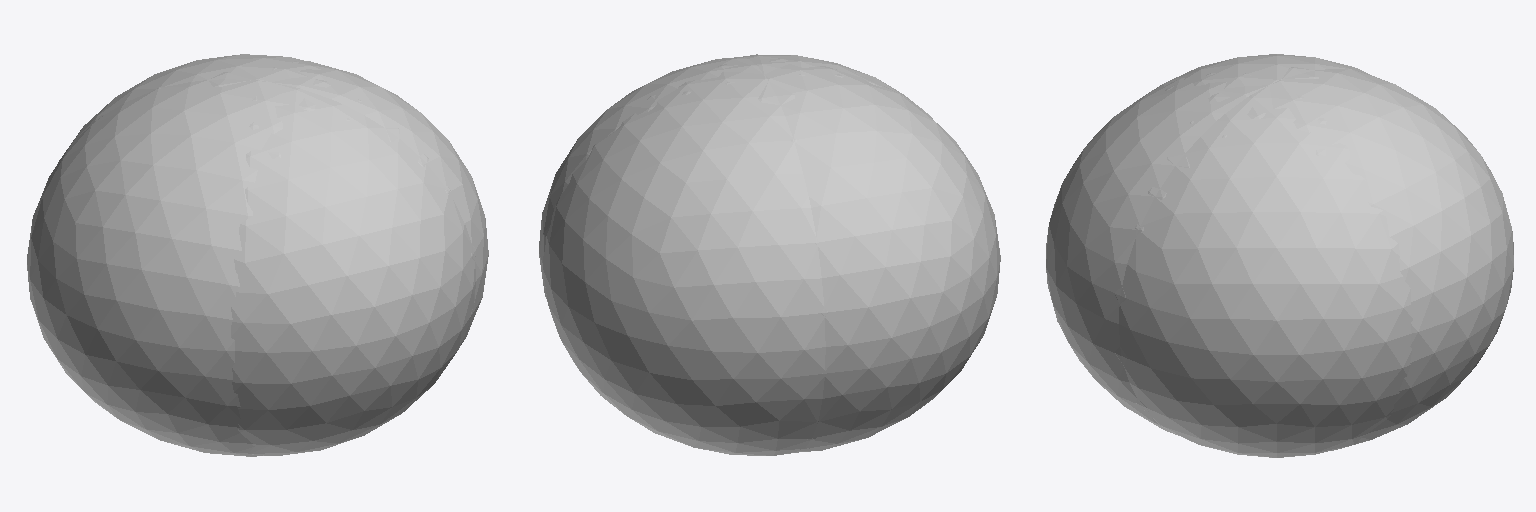
File: sand.obj
3 views of the same model, side by side, from view 1: azimuth 30°, elevation 25°; view 2: azimuth 150°, elevation 25°; view 3: azimuth 270°, elevation 25° (orthographic).
Visible parts, largest first — view 1: hdri-ca-sky.obj.003, hdri-ca-sky.obj.001; view 2: hdri-ca-sky.obj.001, hdri-ca-sky.obj.003; view 3: hdri-ca-sky.obj.003, hdri-ca-sky.obj.001.
Part boxes in pixels (bbox=[...]): hdri-ca-sky.obj.003: bbox=[27, 61, 488, 456]; hdri-ca-sky.obj.001: bbox=[58, 54, 475, 455]; hdri-ca-sky.obj.001: bbox=[543, 54, 932, 455]; hdri-ca-sky.obj.003: bbox=[539, 57, 1000, 452]; hdri-ca-sky.obj.003: bbox=[1115, 54, 1412, 457]; hdri-ca-sky.obj.001: bbox=[1046, 67, 1513, 450].
Size of the model in its own units: 39878 by 33128 by 39878.